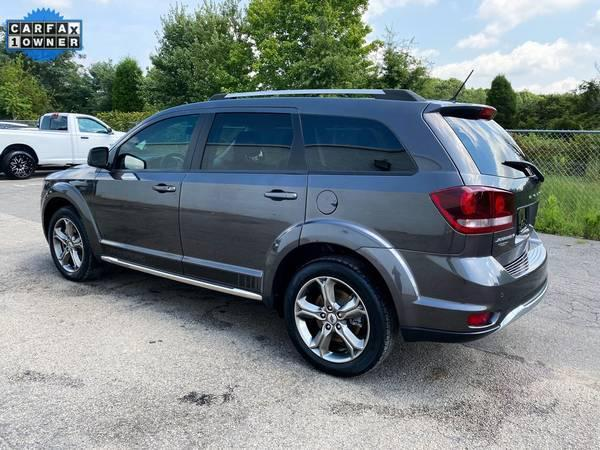Front_Fender: (40, 170, 105, 255)
Front_Left_Door: (92, 175, 186, 274)
Front_Left_Window: (102, 110, 212, 172)
Left_Taillight: (428, 184, 517, 235)
Rear_Bumper: (356, 226, 548, 338)
Rear_Fender: (301, 110, 491, 259)
Rear_Left_Door: (179, 172, 308, 299)
Rear_Left_Window: (188, 105, 310, 173)
Rear_Windshield: (442, 110, 539, 177)
Roof: (104, 95, 499, 176)
Tailgate: (459, 172, 541, 264)
Wheel: (279, 256, 389, 373), (48, 209, 88, 277)
